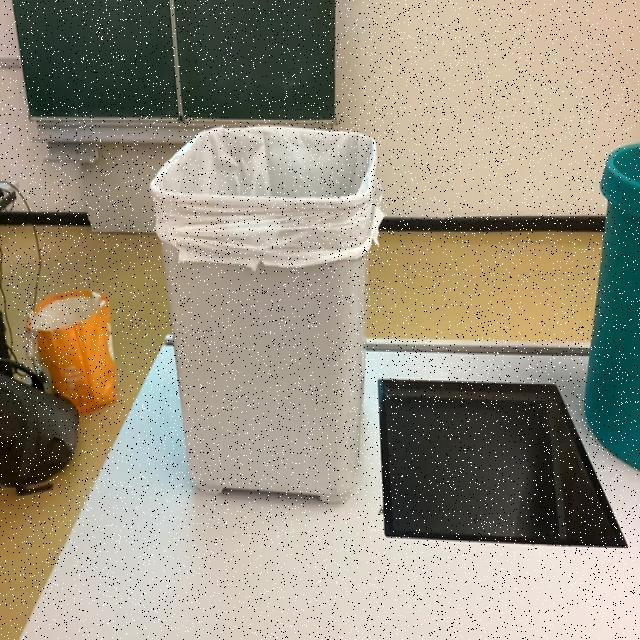garbage container: (126, 69, 412, 566), (582, 93, 640, 529)
